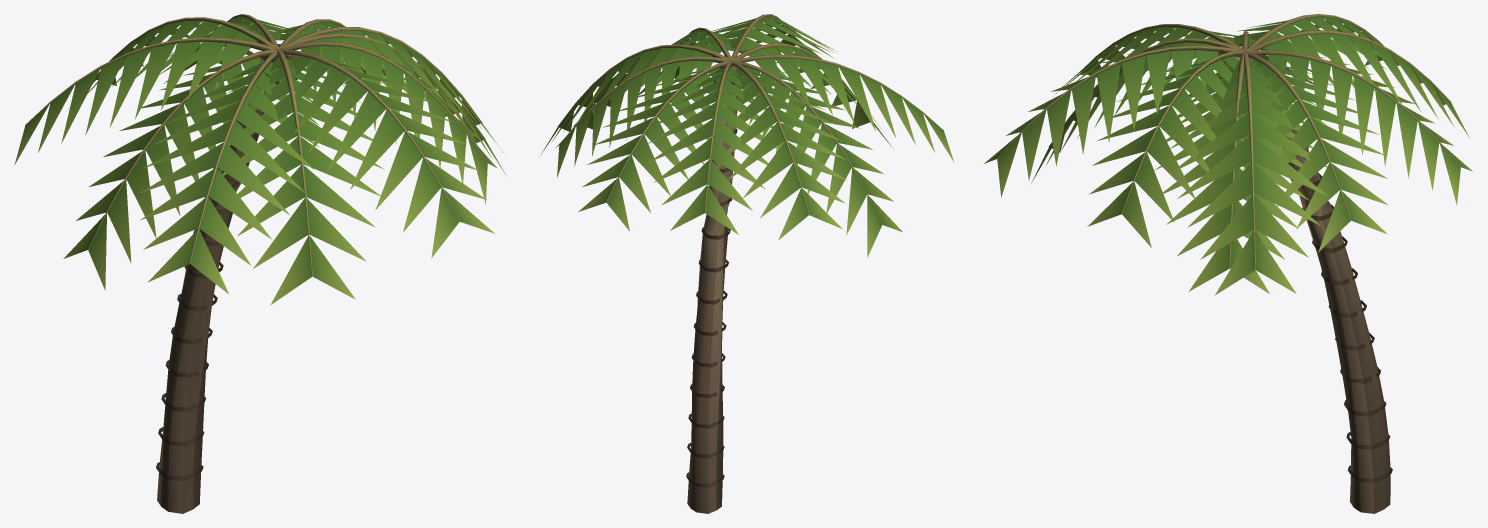
The model's file is coconut_palm_1.glb.
The picture shows the model from 3 angles, left to right: view 1: azimuth 30°, elevation 25°; view 2: azimuth 150°, elevation 25°; view 3: azimuth 270°, elevation 25°; orthographic projection. The views are drawn at different scales.
Visible parts, largest first — view 1: Folhas, Tronco; view 2: Folhas, Tronco; view 3: Folhas, Tronco.
Part boxes in pixels (<box>): Folhas: <box>14,16,506,304</box>; Tronco: <box>25,14,487,513</box>; Folhas: <box>540,16,954,257</box>; Tronco: <box>557,14,943,513</box>; Folhas: <box>984,16,1473,295</box>; Tronco: <box>997,14,1460,513</box>.
Size of the model in its own units: 9.67 by 11.19 by 10.36.
